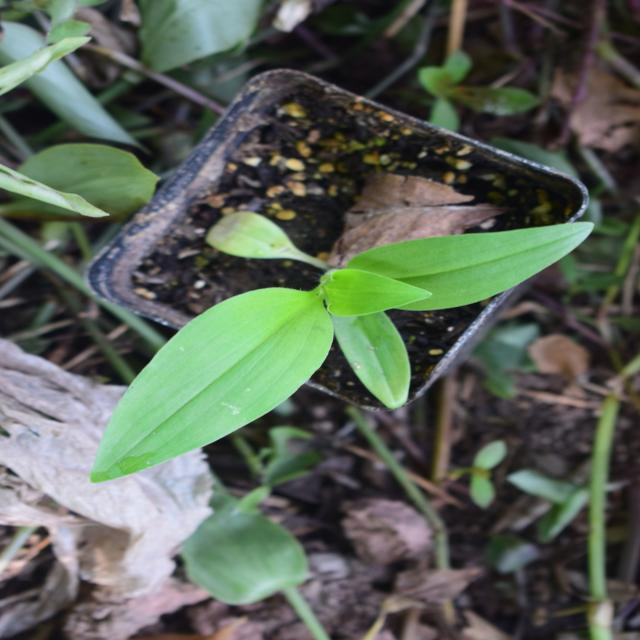Common Dayflower: (145, 73, 430, 573)
